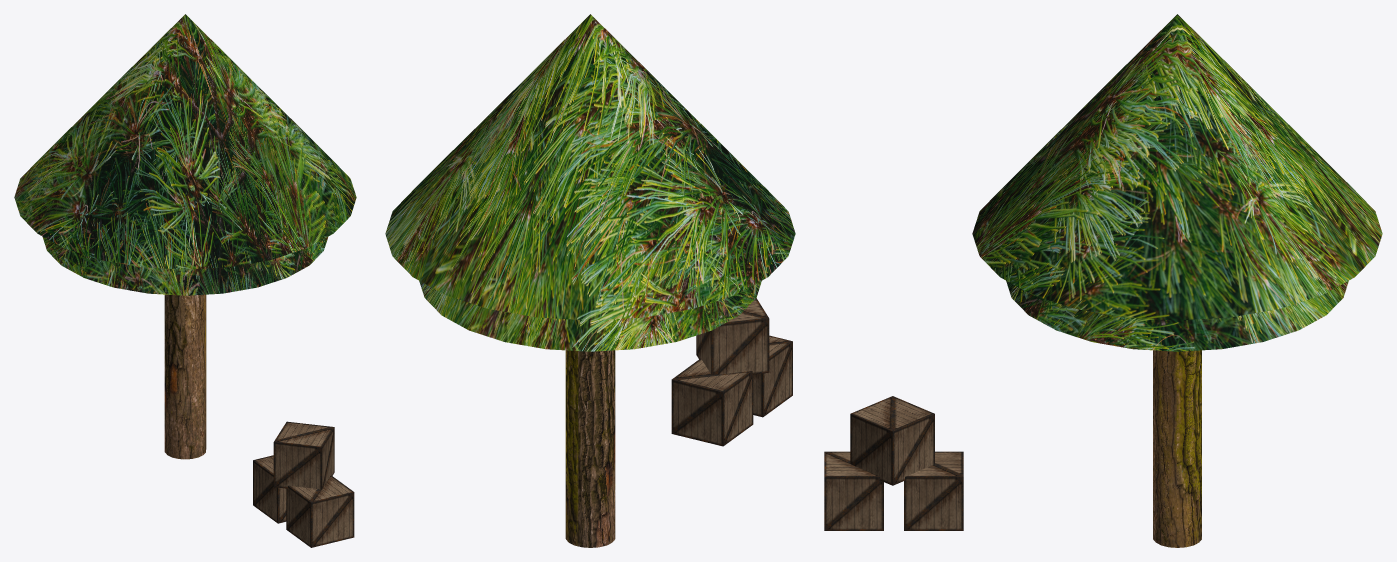
3 views of the same model, side by side, from view 1: azimuth 30°, elevation 25°; view 2: azimuth 150°, elevation 25°; view 3: azimuth 270°, elevation 25° (orthographic). The views are drawn at different scales.
Parts seen in each view (by area): view 1: Cone002, Cylinder001, Cone001, Box001, Box003, Box002; view 2: Cone002, Cylinder001, Cone001, Box002, Box003, Box001; view 3: Cone002, Cone001, Cylinder001, Box003, Box002, Box001.
Boxes of the visible parts, x1,y1,x2,y2 form: Cone002: (14,14,356,269); Cylinder001: (164,294,206,459); Cone001: (42,236,327,295); Box001: (286,475,354,547); Box003: (273,421,334,489); Box002: (253,455,286,523); Cone002: (385,14,795,320); Cylinder001: (565,350,615,547); Cone001: (419,281,761,351); Box002: (671,358,753,446); Box003: (696,298,769,375); Box001: (753,335,792,417); Cone002: (972,14,1382,320); Cone001: (1006,280,1348,351); Cylinder001: (1153,350,1201,547); Box003: (850,396,934,485); Box002: (904,451,963,530); Box001: (824,451,883,530).
Size of what is drawn, in the model's own units: 13.72 by 19.31 by 18.67.
Materials: 3 (3 with a texture image).
